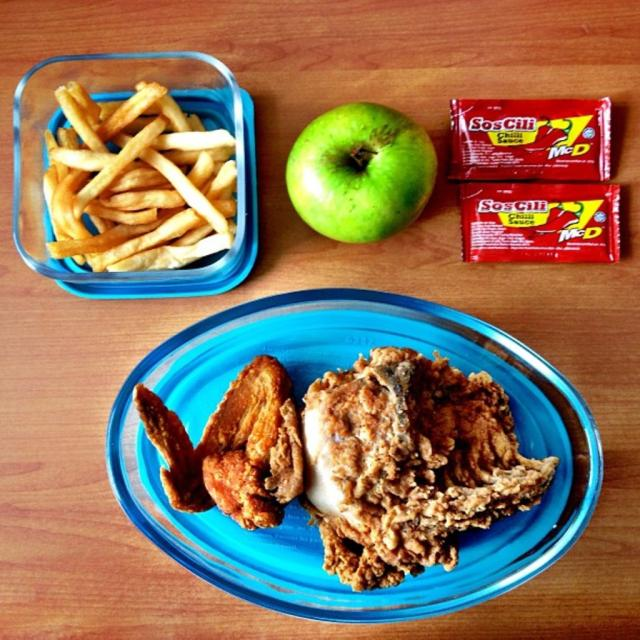Healty Apple: (284, 99, 438, 248)
